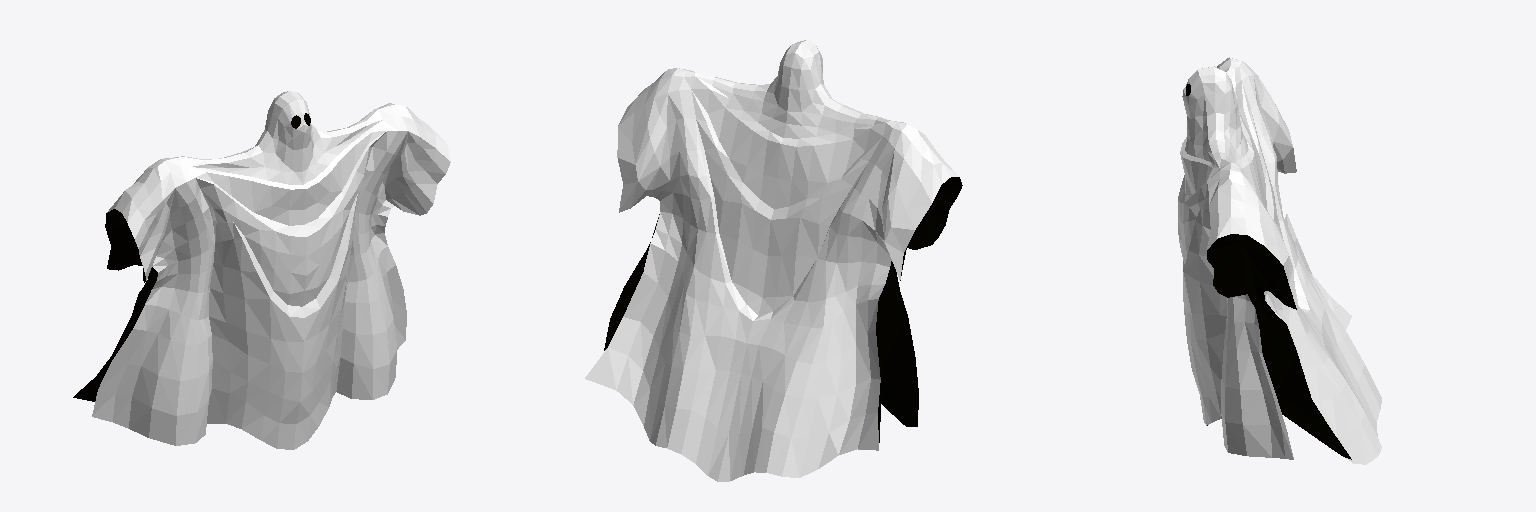
3 views of the same model, side by side, from view 1: azimuth 30°, elevation 25°; view 2: azimuth 150°, elevation 25°; view 3: azimuth 270°, elevation 25° (orthographic).
Size of the model in its own units: 2.02 by 2.28 by 1.12.
Materials: 1 (1 with a texture image).